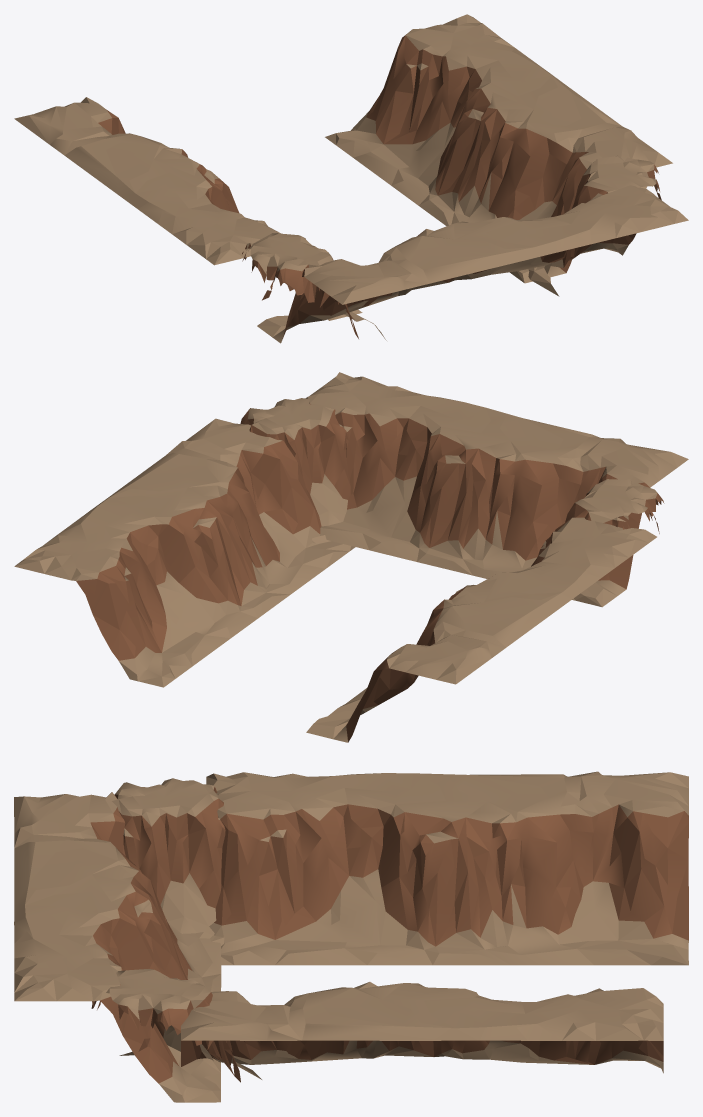
File: Level9-Mountain-Optimize.fbx
3 renders of one model, top to bottom at view 1: azimuth 30°, elevation 25°; view 2: azimuth 150°, elevation 25°; view 3: azimuth 270°, elevation 25°, orthographic. The views are drawn at different scales.
Visible parts, largest first — view 1: SM_Env_Cliff_Straight_01__2_; view 2: SM_Env_Cliff_Straight_01__2_; view 3: SM_Env_Cliff_Straight_01__2_.
Boxes of the visible parts, <box> form: SM_Env_Cliff_Straight_01__2_: <box>14,14,688,343</box>; SM_Env_Cliff_Straight_01__2_: <box>14,372,688,742</box>; SM_Env_Cliff_Straight_01__2_: <box>14,771,688,1102</box>.
Size of the model in its own units: 26076 by 5471 by 28154.
